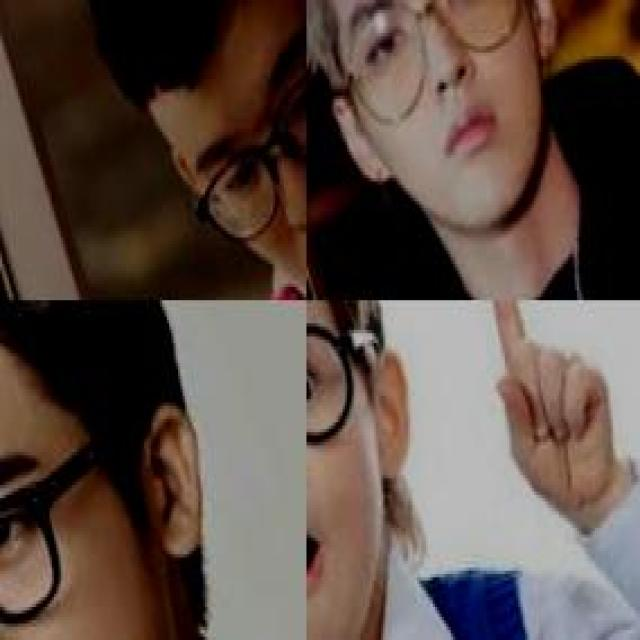glasses: (138, 0, 304, 271), (313, 0, 549, 148), (0, 409, 153, 637), (306, 300, 408, 528)
